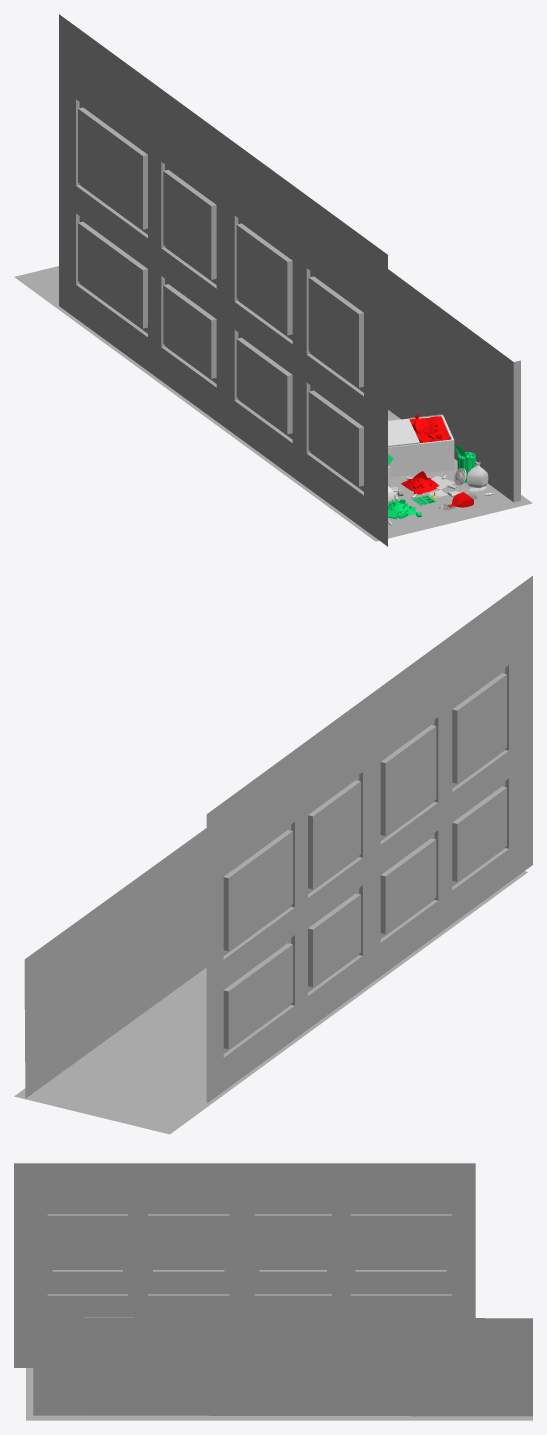
The model's file is SM_RatMiniGame 1.fbx.
3 renders of one model, top to bottom at view 1: azimuth 30°, elevation 25°; view 2: azimuth 150°, elevation 25°; view 3: azimuth 270°, elevation 25°, orthographic. The views are drawn at different scales.
Parts seen in each view (by area): view 1: SM_RatLayout, SM_StaticTrash; view 2: SM_RatLayout; view 3: SM_RatLayout.
Boxes of the visible parts, <box> form: SM_RatLayout: <box>14,14,532,546</box>; SM_StaticTrash: <box>409,414,451,442</box>; SM_RatLayout: <box>14,576,532,1134</box>; SM_RatLayout: <box>14,1163,532,1420</box>.
Bounding box in the file's own units: 608 × 1131 × 2480.
